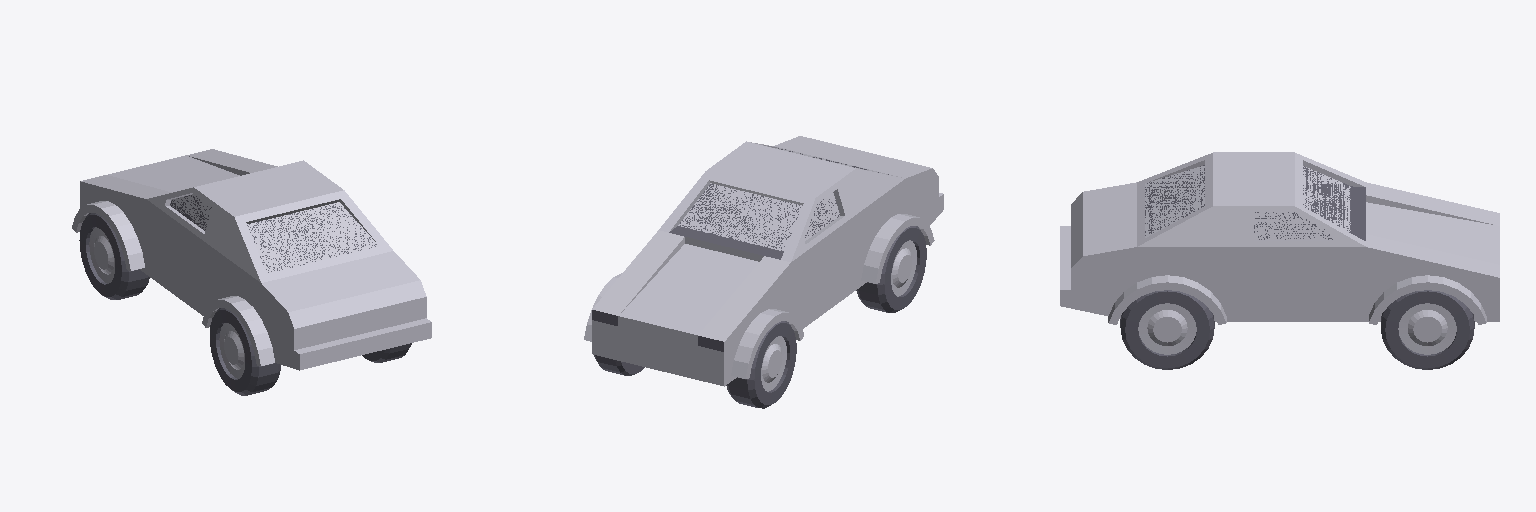
Rendered from car.model.obj.
3 renders of one model, left to right at view 1: azimuth 30°, elevation 25°; view 2: azimuth 150°, elevation 25°; view 3: azimuth 270°, elevation 25°, orthographic.
Size of the model in its own units: 1.23 by 1.11 by 2.87.